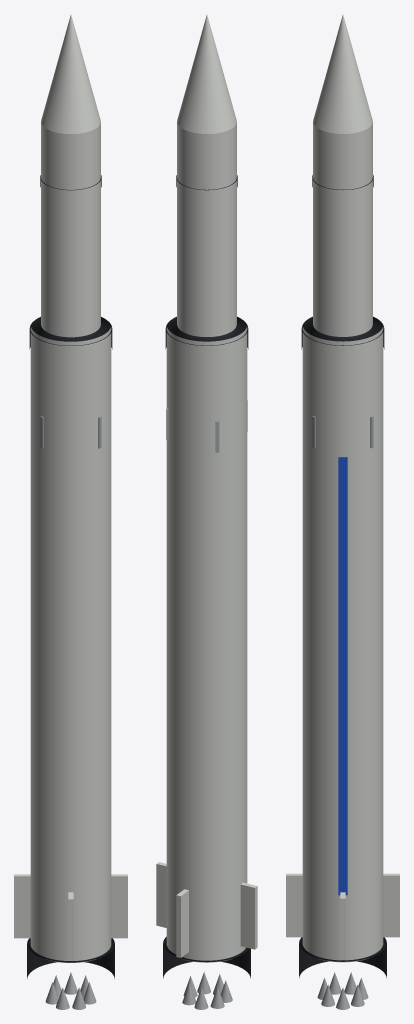
The model's file is rocket.glb.
3 views of the same model, side by side, from view 1: azimuth 90°, elevation 25°; view 2: azimuth 150°, elevation 25°; view 3: azimuth 270°, elevation 25° (orthographic).
Visible parts, largest first — view 1: first stage body, second stage body, nose fairing, landing fin 1, landing fin 3, engine skirt, black interstage band, landing fin 2; view 2: first stage body, second stage body, nose fairing, landing fin 2, engine skirt, landing fin 3, black interstage band, landing fin 0; view 3: first stage body, second stage body, vertical blue mission stripe, nose fairing, landing fin 1, landing fin 3, engine skirt, black interstage band, landing fin 0.
Part boxes in pixels (<box>): first stage body: <box>30,326,111,962</box>; second stage body: <box>41,122,100,337</box>; nose fairing: <box>41,15,100,133</box>; landing fin 1: <box>111,874,127,938</box>; landing fin 3: <box>14,874,30,938</box>; engine skirt: <box>27,938,114,978</box>; black interstage band: <box>29,317,112,349</box>; landing fin 2: <box>68,892,73,960</box>; first stage body: <box>166,326,247,962</box>; second stage body: <box>177,122,236,336</box>; nose fairing: <box>177,15,236,133</box>; landing fin 2: <box>240,882,257,949</box>; engine skirt: <box>163,936,250,978</box>; landing fin 3: <box>176,889,188,957</box>; black interstage band: <box>165,316,248,349</box>; landing fin 0: <box>156,862,166,927</box>; first stage body: <box>302,326,383,962</box>; second stage body: <box>313,122,372,336</box>; vertical blue mission stripe: <box>338,457,347,895</box>; nose fairing: <box>313,15,372,133</box>; landing fin 1: <box>286,873,302,937</box>; landing fin 3: <box>383,873,399,937</box>; engine skirt: <box>299,937,386,978</box>; black interstage band: <box>301,316,384,349</box>; landing fin 0: <box>340,892,345,960</box>.
Bounding box in the file's own units: 2.59 × 24.75 × 2.59.
